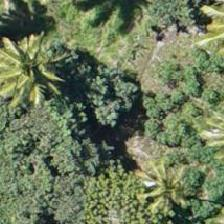coconut_tree: (121, 131, 211, 221), (0, 19, 73, 109)
